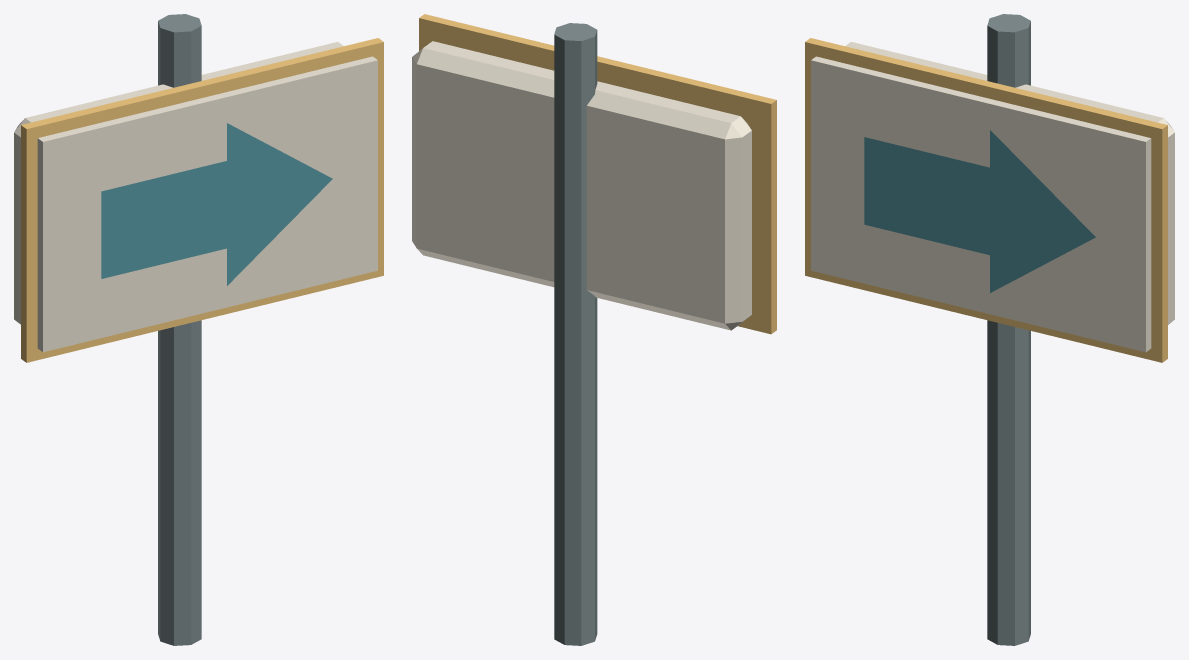
Rendered from road_chevron_sign_a.glb.
3 views of the same model, side by side, from view 1: azimuth 30°, elevation 25°; view 2: azimuth 150°, elevation 25°; view 3: azimuth 330°, elevation 25° (orthographic).
Parts seen in each view (by area): view 1: road_chevron_sign_a; view 2: road_chevron_sign_a; view 3: road_chevron_sign_a.
Part boxes in pixels (x1,y1,x2,y2): road_chevron_sign_a: (14, 14, 383, 645); road_chevron_sign_a: (412, 14, 776, 645); road_chevron_sign_a: (805, 14, 1174, 645).
Bounding box in the file's own units: 1.28 × 2.1 × 0.275.
